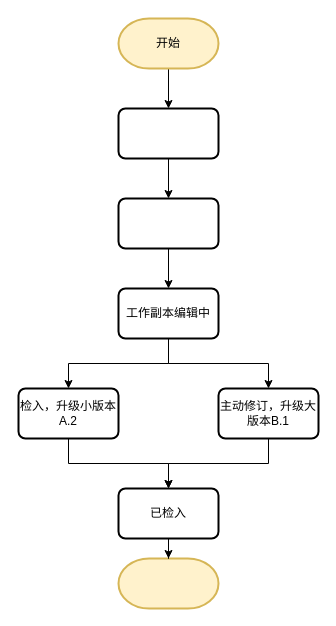
Some shapes in this 336 by 626 pixel diagram are drawn without their labels. The centre of each missing label's shape, as x and y in pixels:
未检出状态A.1: (168,133)
用户检出: (168,223)
结束: (168,583)
